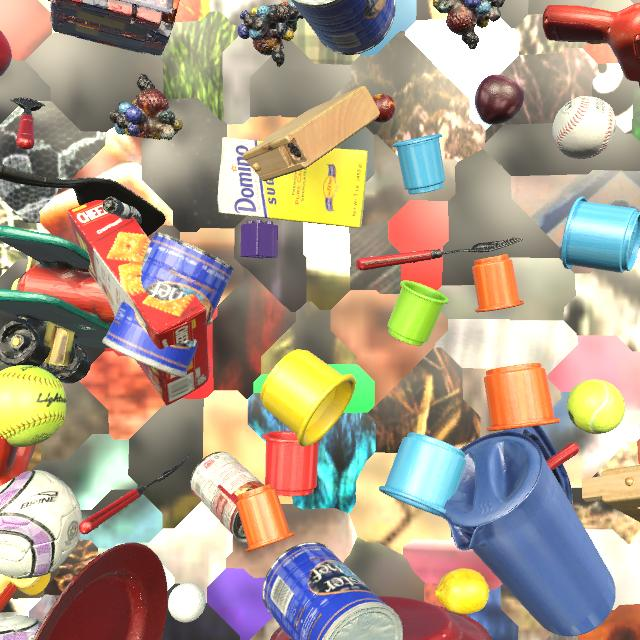ycb_002_master_chef_can: (102, 231, 235, 378), (262, 542, 403, 640), (291, 0, 396, 55)
ycb_003_cracker_box: (67, 200, 210, 406)
ycb_004_sugar_box: (218, 137, 368, 228)
ycb_005_tomato_soup_can: (191, 452, 264, 543)
ycb_013_apple: (0, 30, 12, 76)
ycb_014_lemon: (435, 568, 490, 615)
ycb_018_plum: (475, 75, 524, 125)
